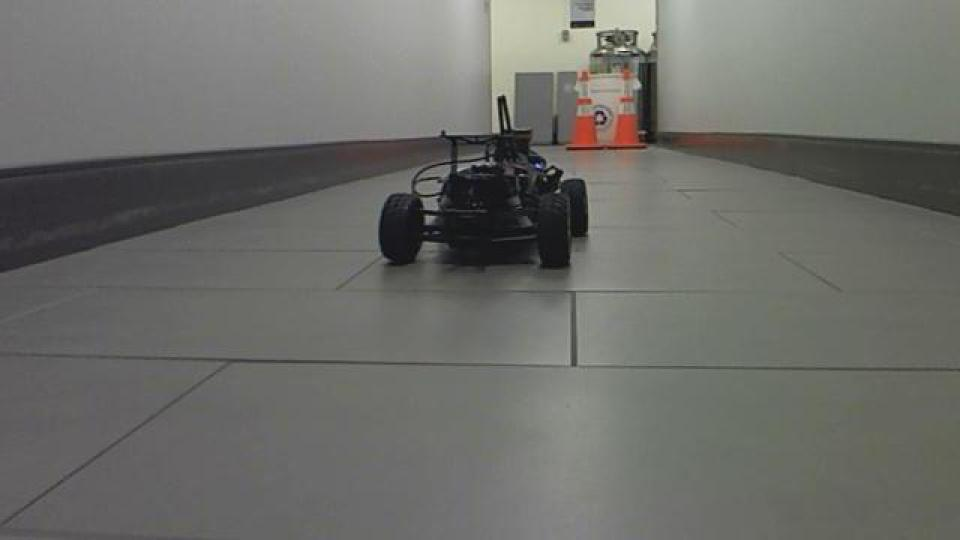car: (373, 93, 591, 271)
